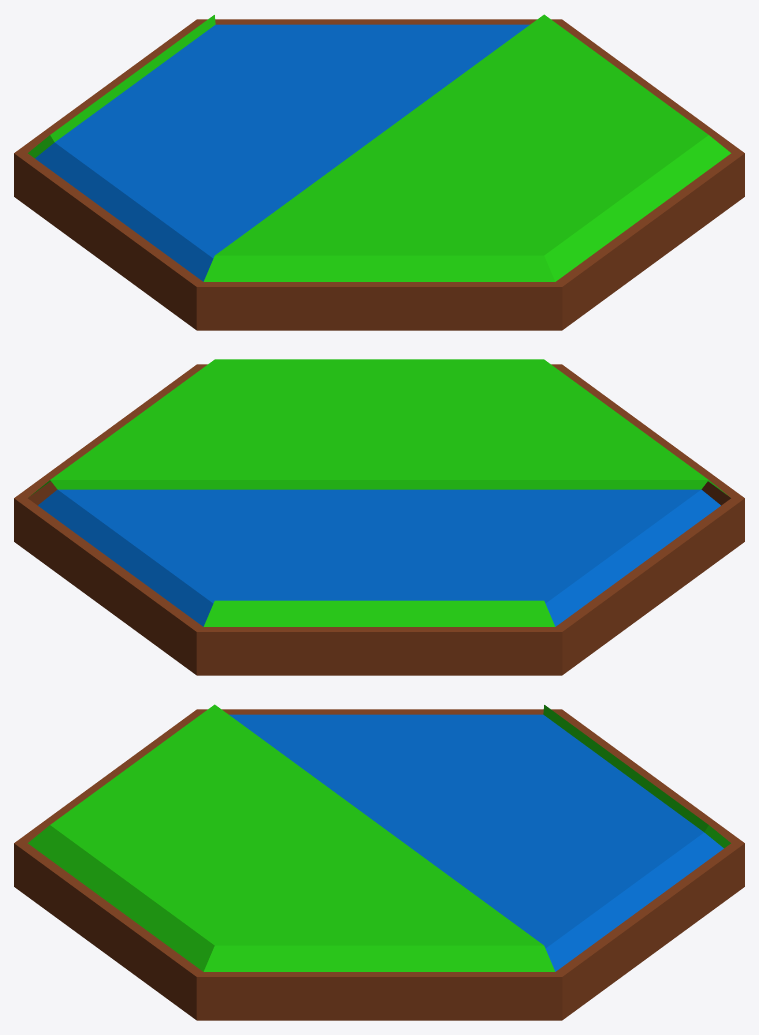
3 renders of one model, top to bottom at view 1: azimuth 30°, elevation 25°; view 2: azimuth 150°, elevation 25°; view 3: azimuth 270°, elevation 25°, orthographic.
Visible parts, largest first — view 1: SV5; view 2: SV5; view 3: SV5.
Part boxes in pixels (left/top/right/bottom): SV5: left=14, top=14, right=744, bottom=330; SV5: left=14, top=359, right=744, bottom=675; SV5: left=14, top=704, right=744, bottom=1020.
Size of the model in its own units: 173 by 18.65 by 200.
